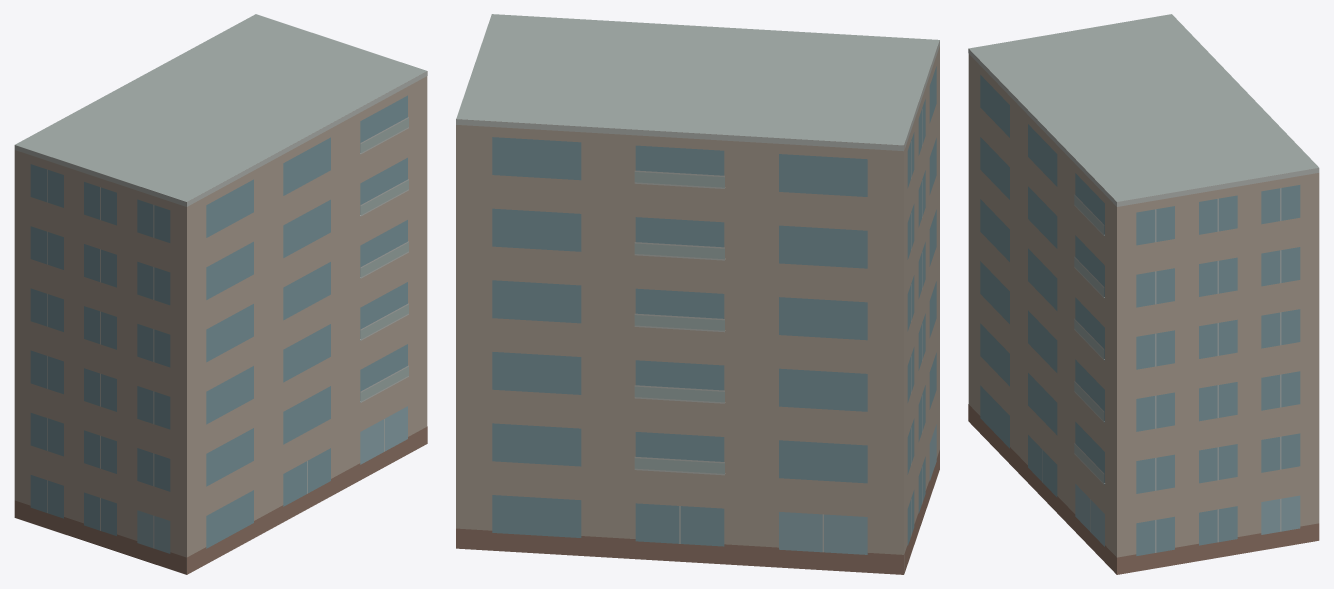
Rendered from survey-upis-32861284.glb.
The picture shows the model from 3 angles, left to right: view 1: azimuth 30°, elevation 25°; view 2: azimuth 150°, elevation 25°; view 3: azimuth 270°, elevation 25°; orthographic projection. The views are drawn at different scales.
Visible parts, largest first — view 1: survey-upis-32861284.tmp; view 2: survey-upis-32861284.tmp; view 3: survey-upis-32861284.tmp.
Boxes of the visible parts, left/top/right/bottom form: survey-upis-32861284.tmp: left=14, top=14, right=427, bottom=574; survey-upis-32861284.tmp: left=456, top=14, right=939, bottom=574; survey-upis-32861284.tmp: left=968, top=14, right=1319, bottom=574.
Size of the model in its own units: 19.8 by 18.3 by 15.62.
